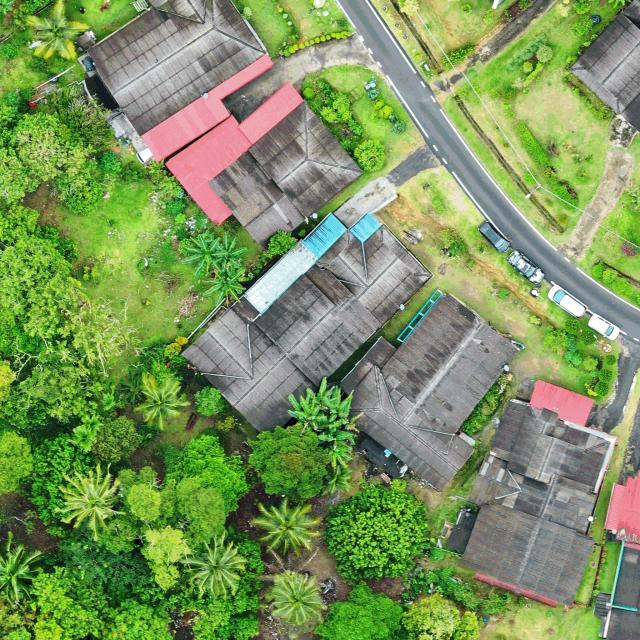Tree: (98, 464, 227, 588), (324, 477, 430, 582), (246, 422, 328, 498), (54, 462, 124, 540), (317, 581, 404, 640), (182, 528, 248, 598), (251, 494, 321, 558), (399, 592, 484, 640), (25, 0, 91, 61), (134, 374, 192, 432), (0, 532, 45, 603), (268, 571, 323, 625), (306, 376, 353, 419), (181, 233, 228, 276), (318, 413, 353, 468), (202, 264, 248, 302), (212, 232, 249, 269), (286, 394, 327, 425), (353, 139, 386, 172), (193, 384, 223, 417)
